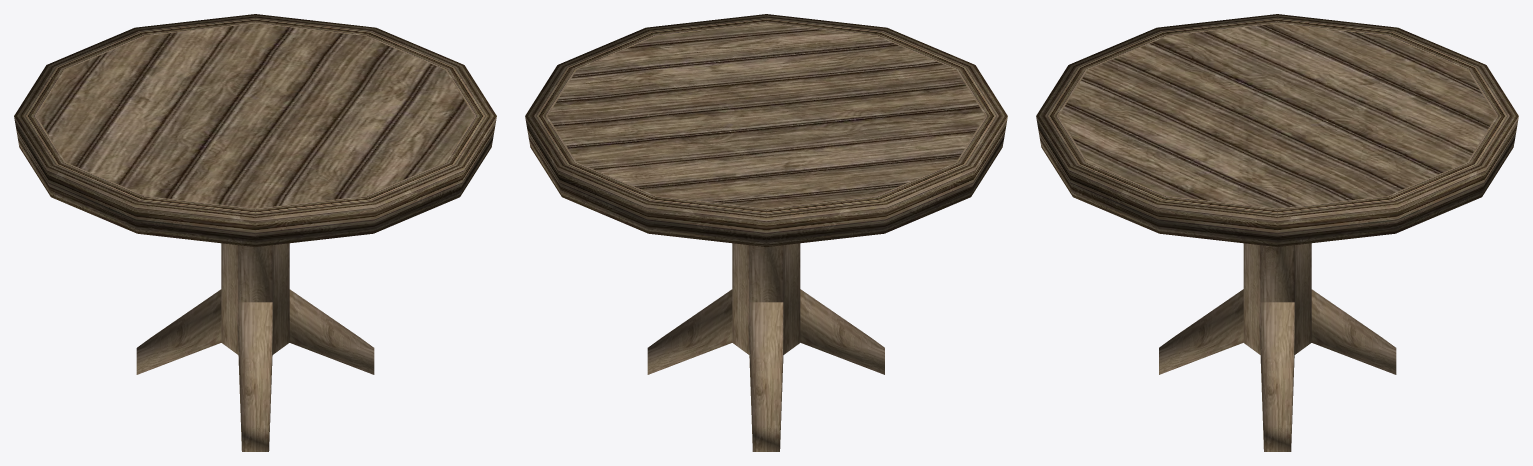
File: GS_TABLE_CIRCULAR_YELLOW_01_KOZA.glb
The picture shows the model from 3 angles, left to right: view 1: azimuth 30°, elevation 25°; view 2: azimuth 150°, elevation 25°; view 3: azimuth 270°, elevation 25°; orthographic projection.
Parts seen in each view (by area): view 1: Mesh; view 2: Mesh; view 3: Mesh.
Part boxes in pixels (bbox=[...]): Mesh: bbox=[14, 14, 496, 451]; Mesh: bbox=[525, 14, 1007, 451]; Mesh: bbox=[1036, 14, 1518, 451].
Bounding box in the file's own units: 1.4 × 0.9 × 1.4.
Materials: 2 (2 with a texture image).
